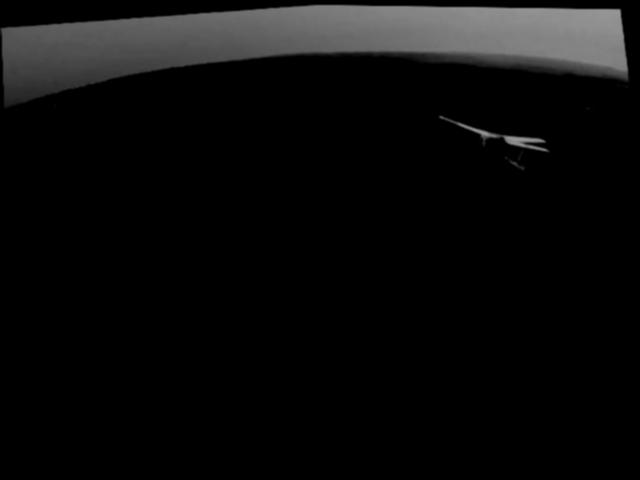hedef: (432, 97, 561, 193)
